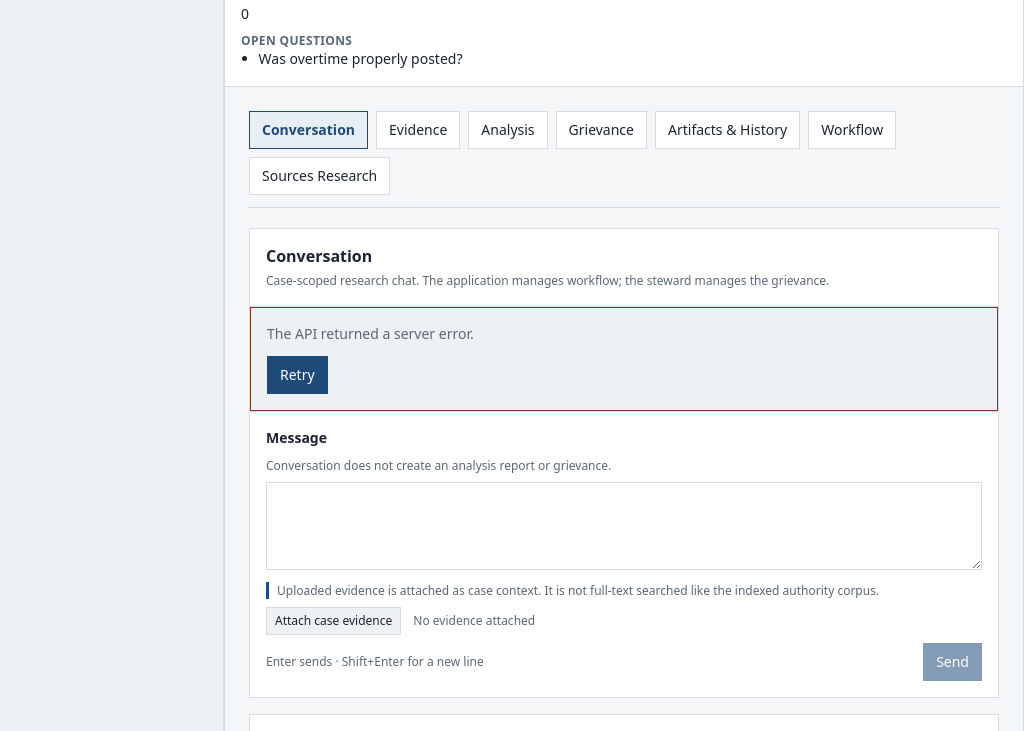
Test: W6 M3 Conversation and Retrieval › shows messages failure with Retry
The image size is (1024, 731).
(page scrolled)
Check: the message "The API returned a server error. Retry" is shown, box top-left (250, 307), bottom-right (998, 411)
What coordinates should you click on to do the following:
click the button "Retry"
I would click on:
 (297, 375)
Its box is top-left (267, 356), bottom-right (328, 394).
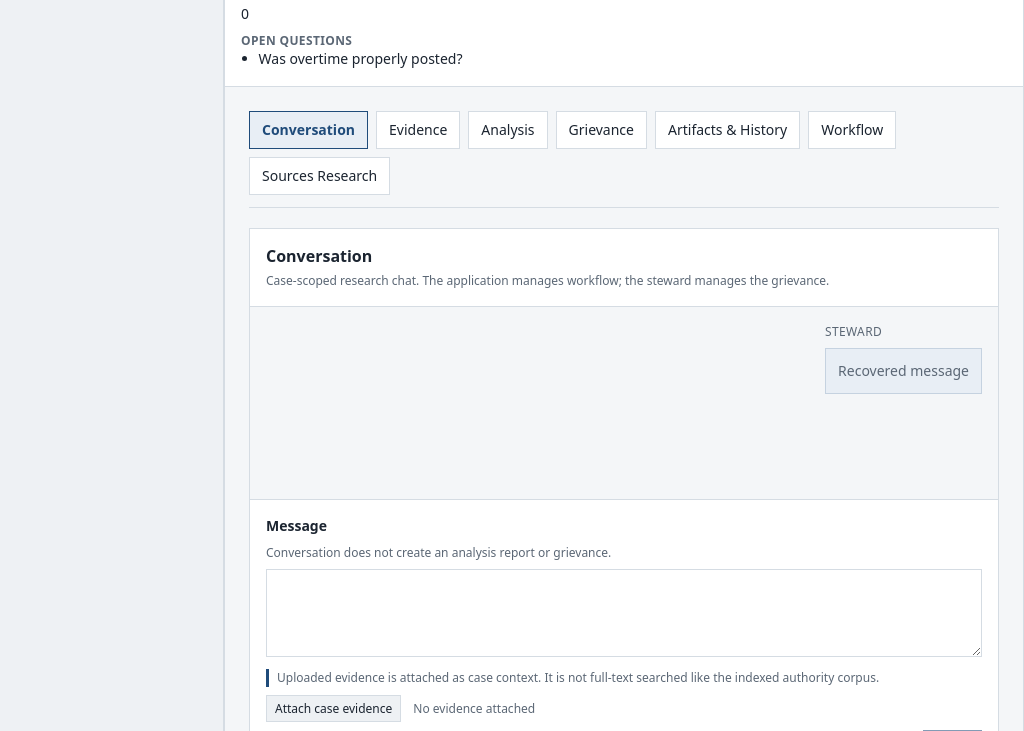
Check: the text "Recovered message" is shown, box top-left (838, 361), bottom-right (969, 381)
